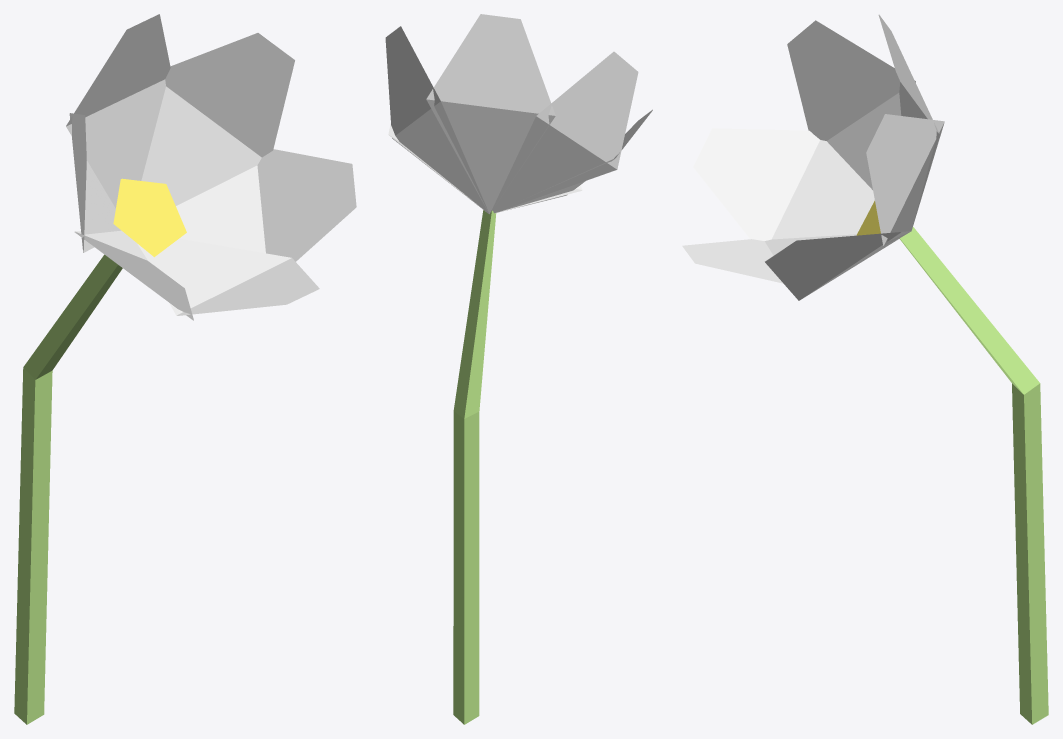
Rendered from flower1.fbx.
The picture shows the model from 3 angles, left to right: view 1: azimuth 30°, elevation 25°; view 2: azimuth 150°, elevation 25°; view 3: azimuth 270°, elevation 25°; orthographic projection. The views are drawn at different scales.
Parts seen in each view (by area): view 1: Flower_e_TwoS_02; view 2: Flower_e_TwoS_02; view 3: Flower_e_TwoS_02.
Boxes of the visible parts, x1,y1,x2,y2 form: Flower_e_TwoS_02: [14, 14, 356, 724]; Flower_e_TwoS_02: [385, 14, 652, 724]; Flower_e_TwoS_02: [682, 14, 1048, 724].
Bounding box in the file's own units: 17.7 × 14.49 × 38.01.
1 material, 1 textured.
